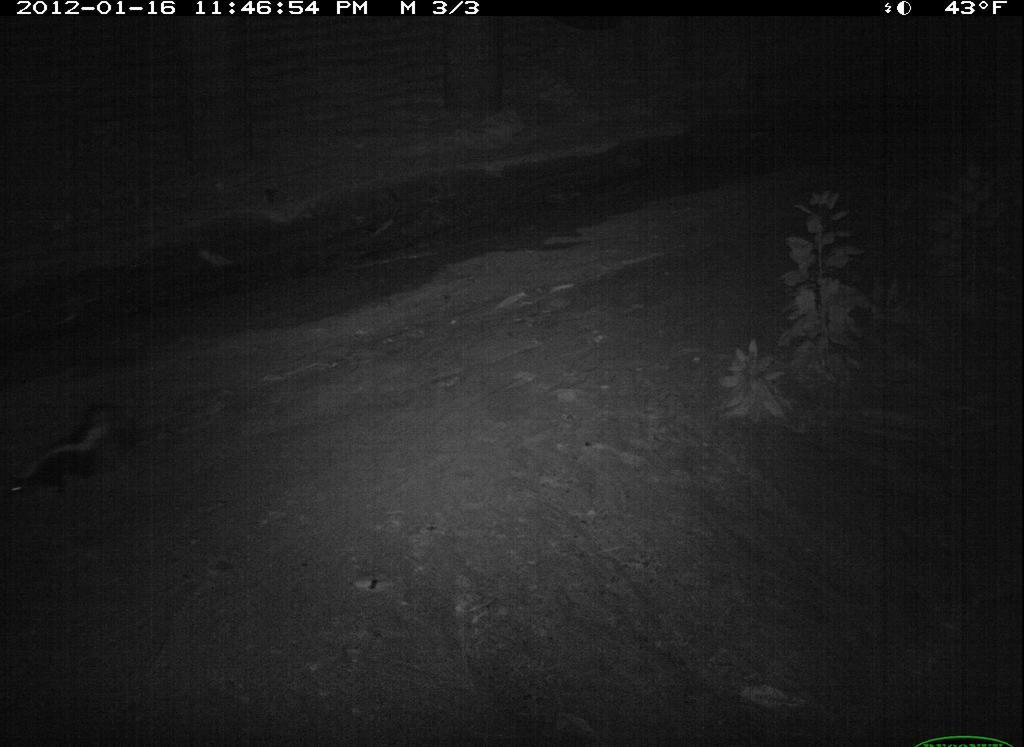skunk: (1, 393, 159, 510)
